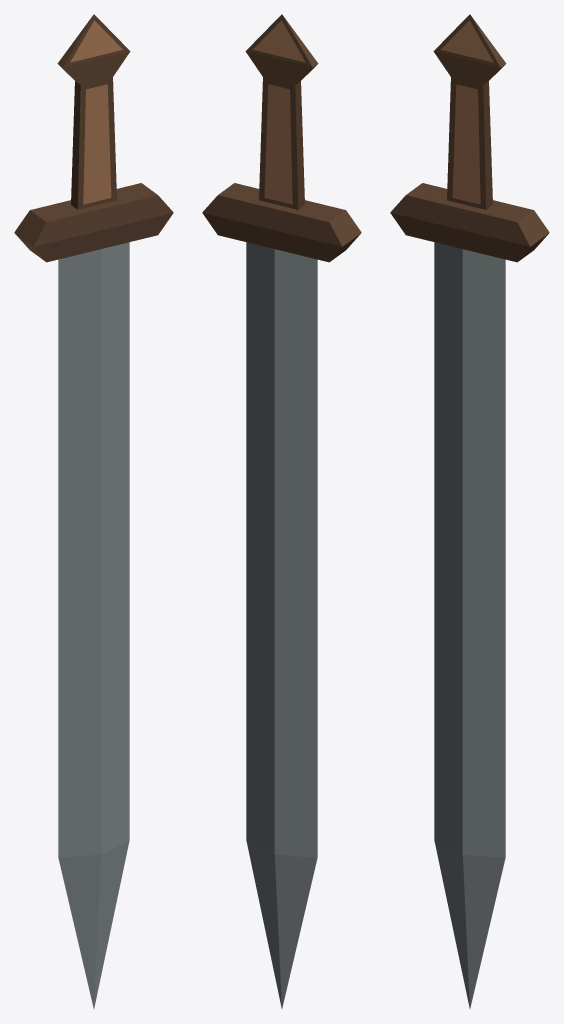
File: Sword_5_Brown.fbx
3 renders of one model, left to right at view 1: azimuth 30°, elevation 25°; view 2: azimuth 150°, elevation 25°; view 3: azimuth 330°, elevation 25°, orthographic.
Visible parts, largest first — view 1: Sword_5_Brown_Part_1, Sword_5_Brown_Part_2, Sword_5_Brown_Part_3, Sword_5_Brown_Part_4; view 2: Sword_5_Brown_Part_1, Sword_5_Brown_Part_2, Sword_5_Brown_Part_3, Sword_5_Brown_Part_4; view 3: Sword_5_Brown_Part_1, Sword_5_Brown_Part_2, Sword_5_Brown_Part_3, Sword_5_Brown_Part_4.
Boxes of the visible parts, box(x1,y1,x2,y2) form: Sword_5_Brown_Part_1: box(58, 242, 129, 1008); Sword_5_Brown_Part_2: box(14, 183, 173, 262); Sword_5_Brown_Part_3: box(57, 14, 130, 209); Sword_5_Brown_Part_4: box(70, 20, 122, 204); Sword_5_Brown_Part_1: box(246, 242, 317, 1008); Sword_5_Brown_Part_2: box(202, 183, 361, 262); Sword_5_Brown_Part_3: box(245, 14, 318, 209); Sword_5_Brown_Part_4: box(253, 20, 305, 204); Sword_5_Brown_Part_1: box(434, 242, 505, 1008); Sword_5_Brown_Part_2: box(390, 183, 549, 262); Sword_5_Brown_Part_3: box(433, 14, 506, 209); Sword_5_Brown_Part_4: box(441, 20, 493, 204).
Bounding box in the file's own units: 19.12 × 130 × 4.58.
